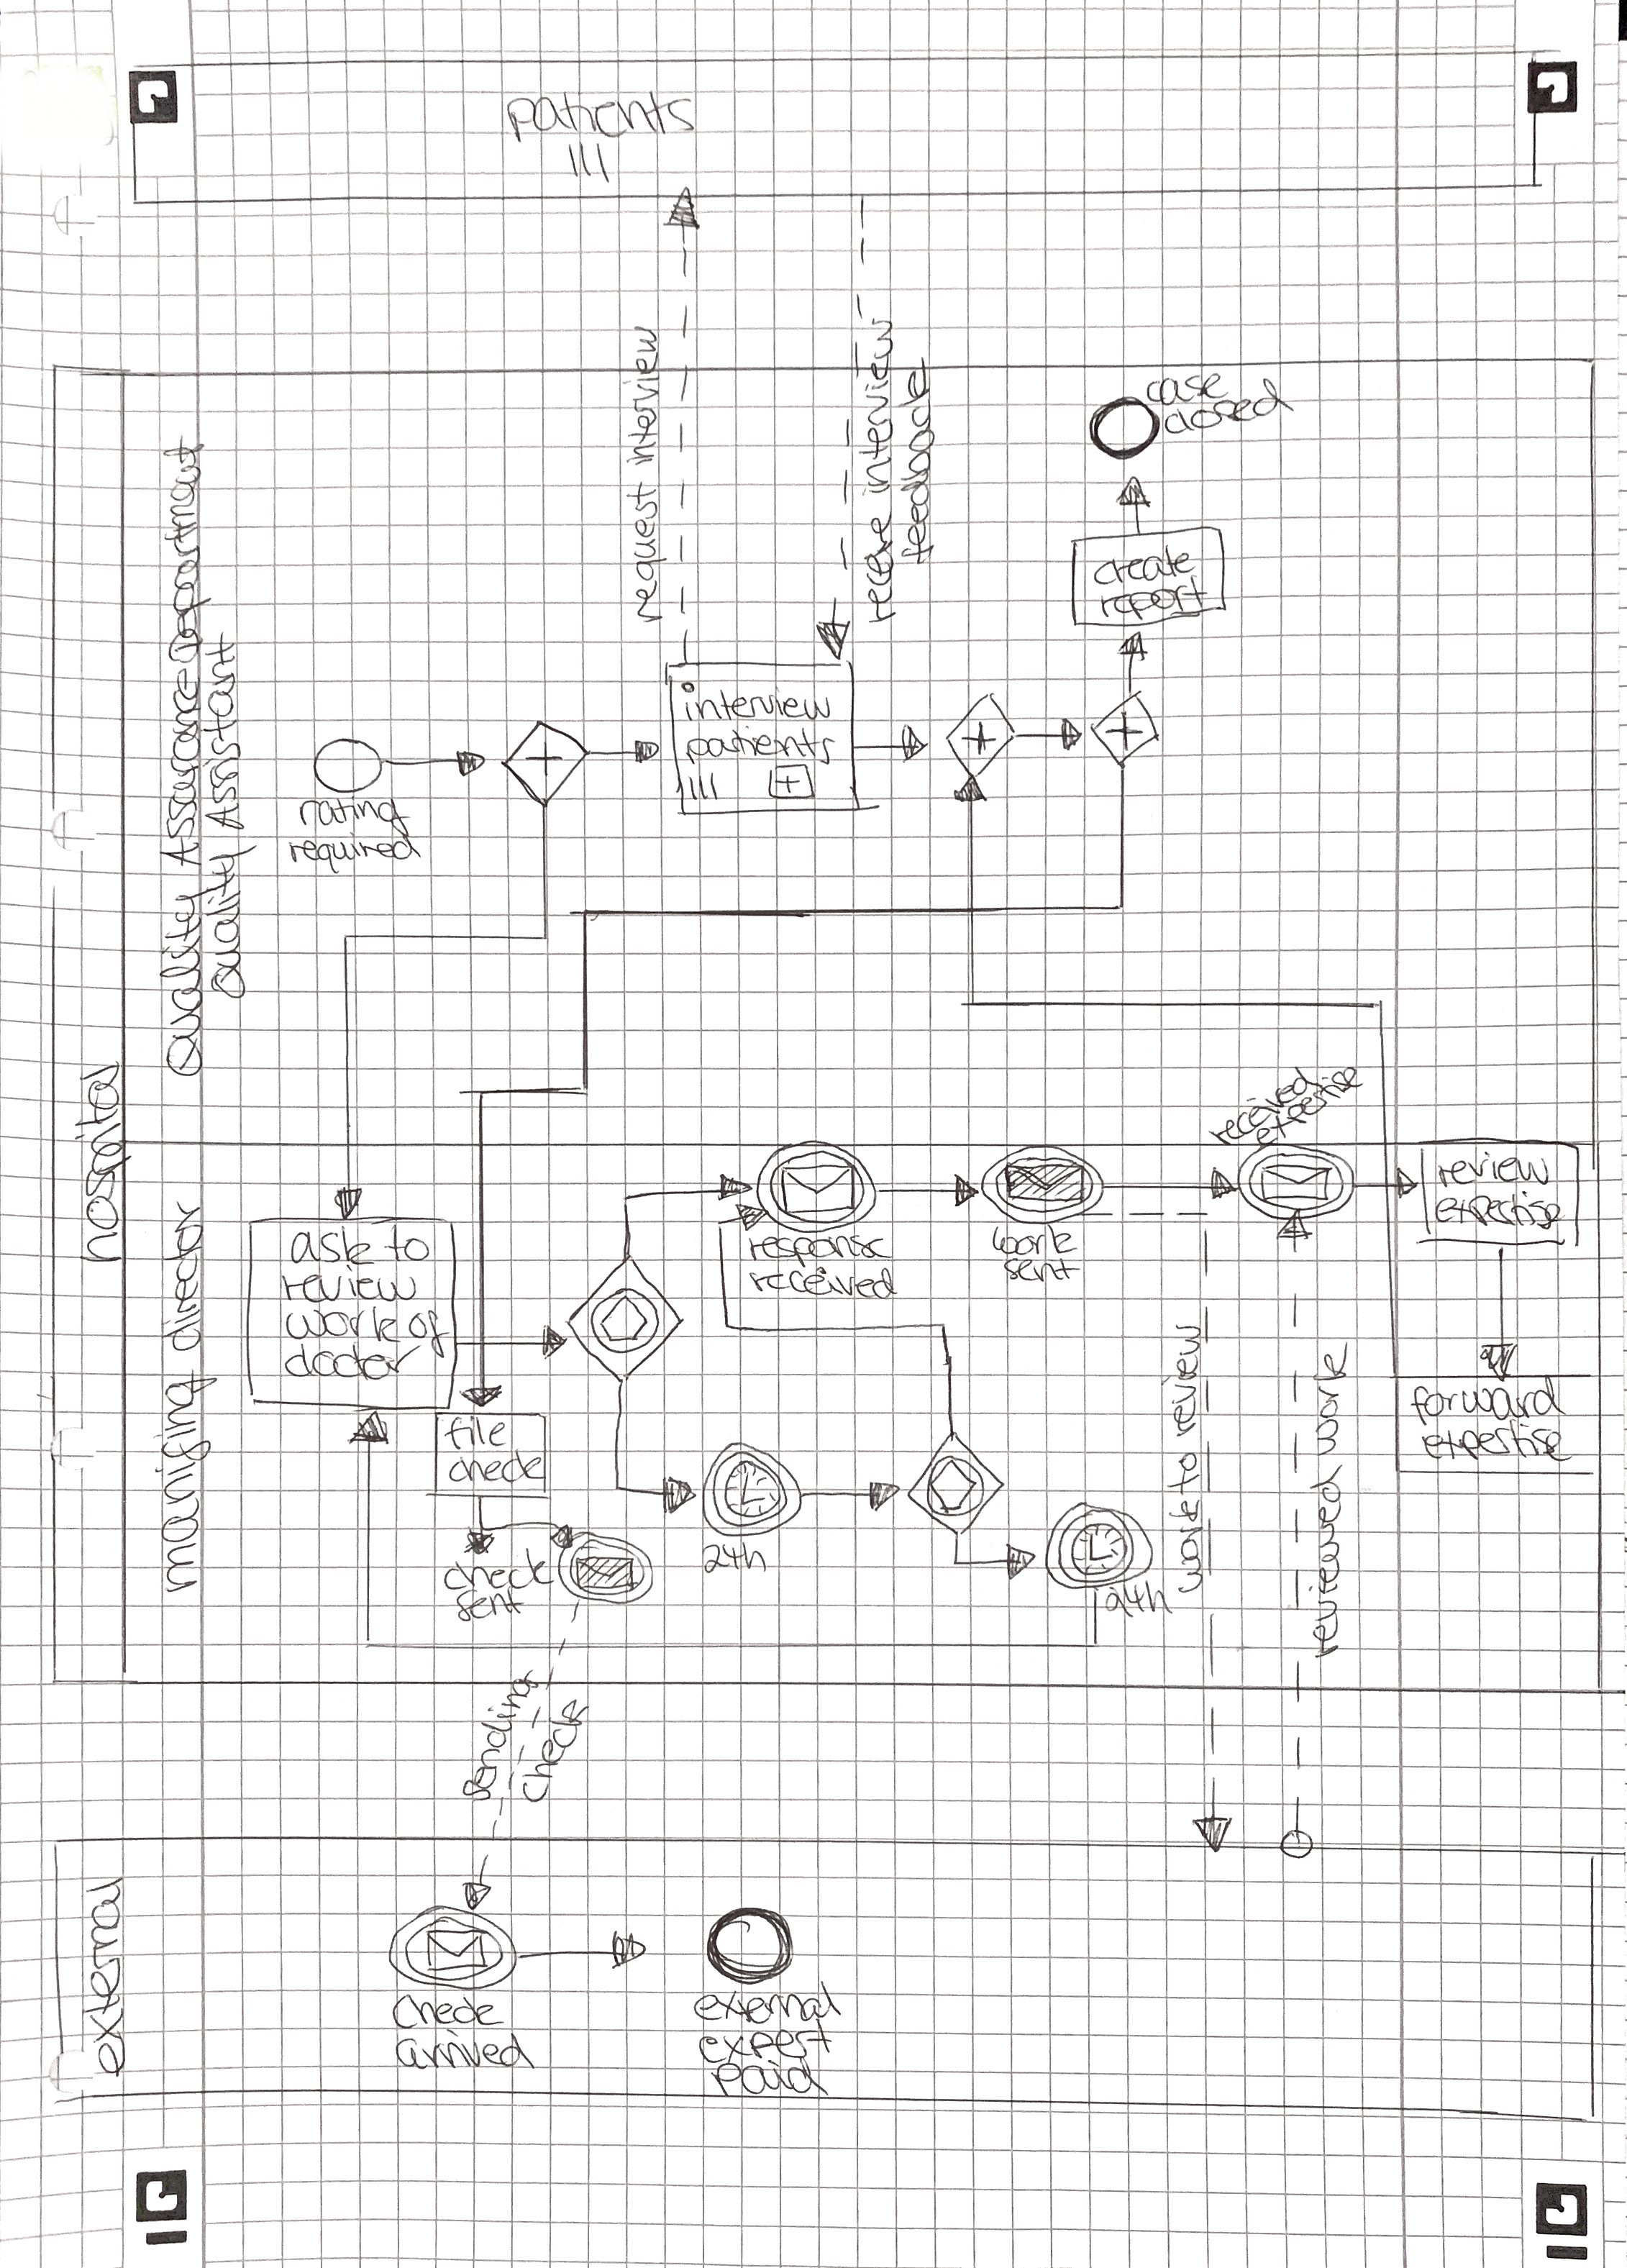24h: (1099, 1573, 1180, 1622), (696, 1536, 773, 1579)
Assistant: (196, 626, 250, 837)
Assurance: (153, 662, 208, 873)
Check: (386, 1986, 511, 2035)
Department: (155, 428, 218, 668)
Quality: (152, 880, 223, 1084), (201, 838, 264, 1004)
arrived: (388, 2023, 542, 2077)
ask: (284, 1219, 381, 1271)
case: (1141, 368, 1234, 411)
check: (514, 1691, 594, 1808), (437, 1542, 561, 1596), (442, 1444, 549, 1487)
closed: (1158, 372, 1298, 440)
create: (1088, 538, 1201, 590)
director: (154, 1193, 210, 1357)
doctor: (277, 1335, 428, 1385)
expert: (692, 2012, 836, 2071)
expertise: (1254, 1065, 1375, 1150), (1416, 1414, 1578, 1467), (1428, 1185, 1572, 1235)
external: (75, 1868, 134, 2083), (687, 1974, 847, 2028)
feedback: (893, 350, 939, 570)
file: (439, 1411, 513, 1454)
forward: (1405, 1367, 1573, 1431)
hospital: (68, 1056, 137, 1273)
interview: (849, 311, 900, 502), (675, 674, 837, 728), (616, 321, 666, 473)
maniging: (145, 1360, 224, 1600)
of: (402, 1304, 455, 1364)
paid: (703, 2051, 834, 2103)
patients: (500, 82, 702, 147), (680, 721, 842, 771)
rating: (293, 789, 416, 844)
receive: (858, 504, 901, 629)
received: (1207, 1065, 1316, 1145), (742, 1261, 903, 1305)
report: (1093, 568, 1213, 626)
request: (621, 476, 673, 629)
required: (283, 826, 427, 878)
response: (740, 1228, 898, 1273)
review: (275, 1258, 424, 1308), (1156, 1317, 1206, 1443), (1431, 1145, 1554, 1195)
reviewed: (1302, 1458, 1349, 1664)
sending: (454, 1662, 545, 1808)
sent: (449, 1581, 530, 1627), (996, 1252, 1085, 1287)
to: (378, 1219, 436, 1268), (1162, 1447, 1204, 1500)
work: (279, 1301, 406, 1349), (1308, 1335, 1353, 1462), (1163, 1495, 1210, 1599), (986, 1218, 1084, 1260)
